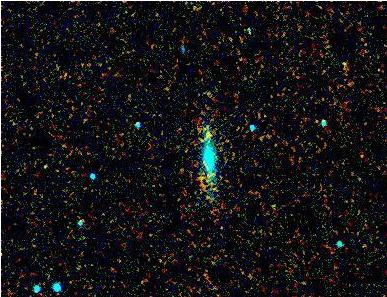star: (195, 120, 225, 150)
